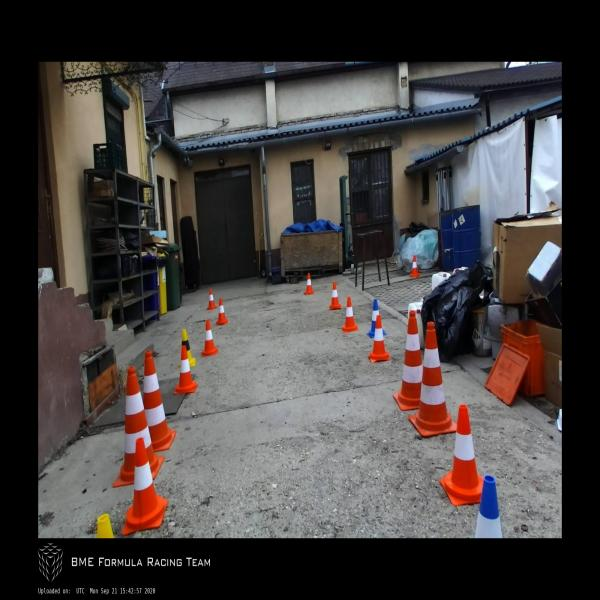blue_cone: (475, 475, 502, 538), (367, 299, 387, 338)
large_orange_cone: (112, 367, 165, 488), (409, 322, 457, 437), (143, 350, 177, 452), (393, 311, 423, 410)
orange_cone: (440, 404, 484, 507), (122, 438, 168, 534), (173, 346, 198, 394), (368, 315, 391, 363), (201, 319, 218, 357), (341, 297, 358, 332), (216, 298, 228, 326), (329, 282, 341, 310), (206, 288, 217, 310), (409, 256, 420, 278), (304, 274, 314, 294)
yellow_cone: (178, 329, 196, 367)
